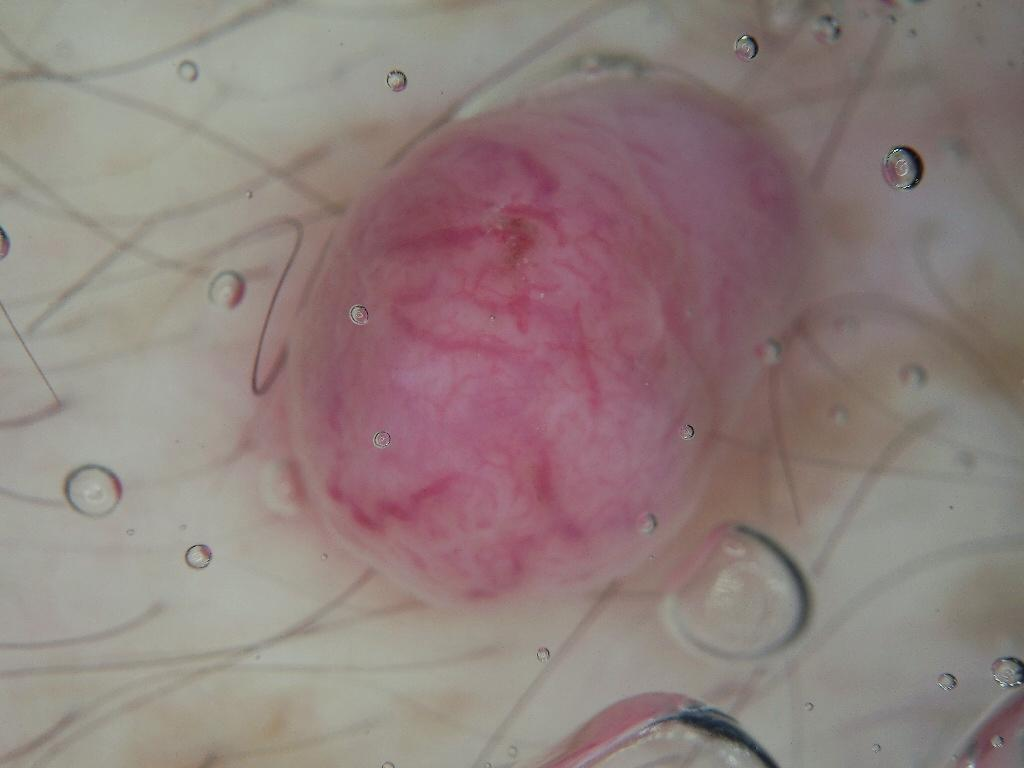Detected Lesion: (258, 61, 821, 624)
